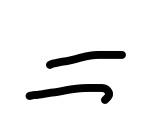eqv: (25, 50, 127, 104)
